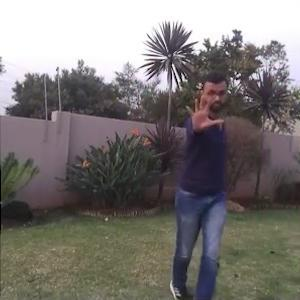follow_hand: (184, 90, 225, 135)
